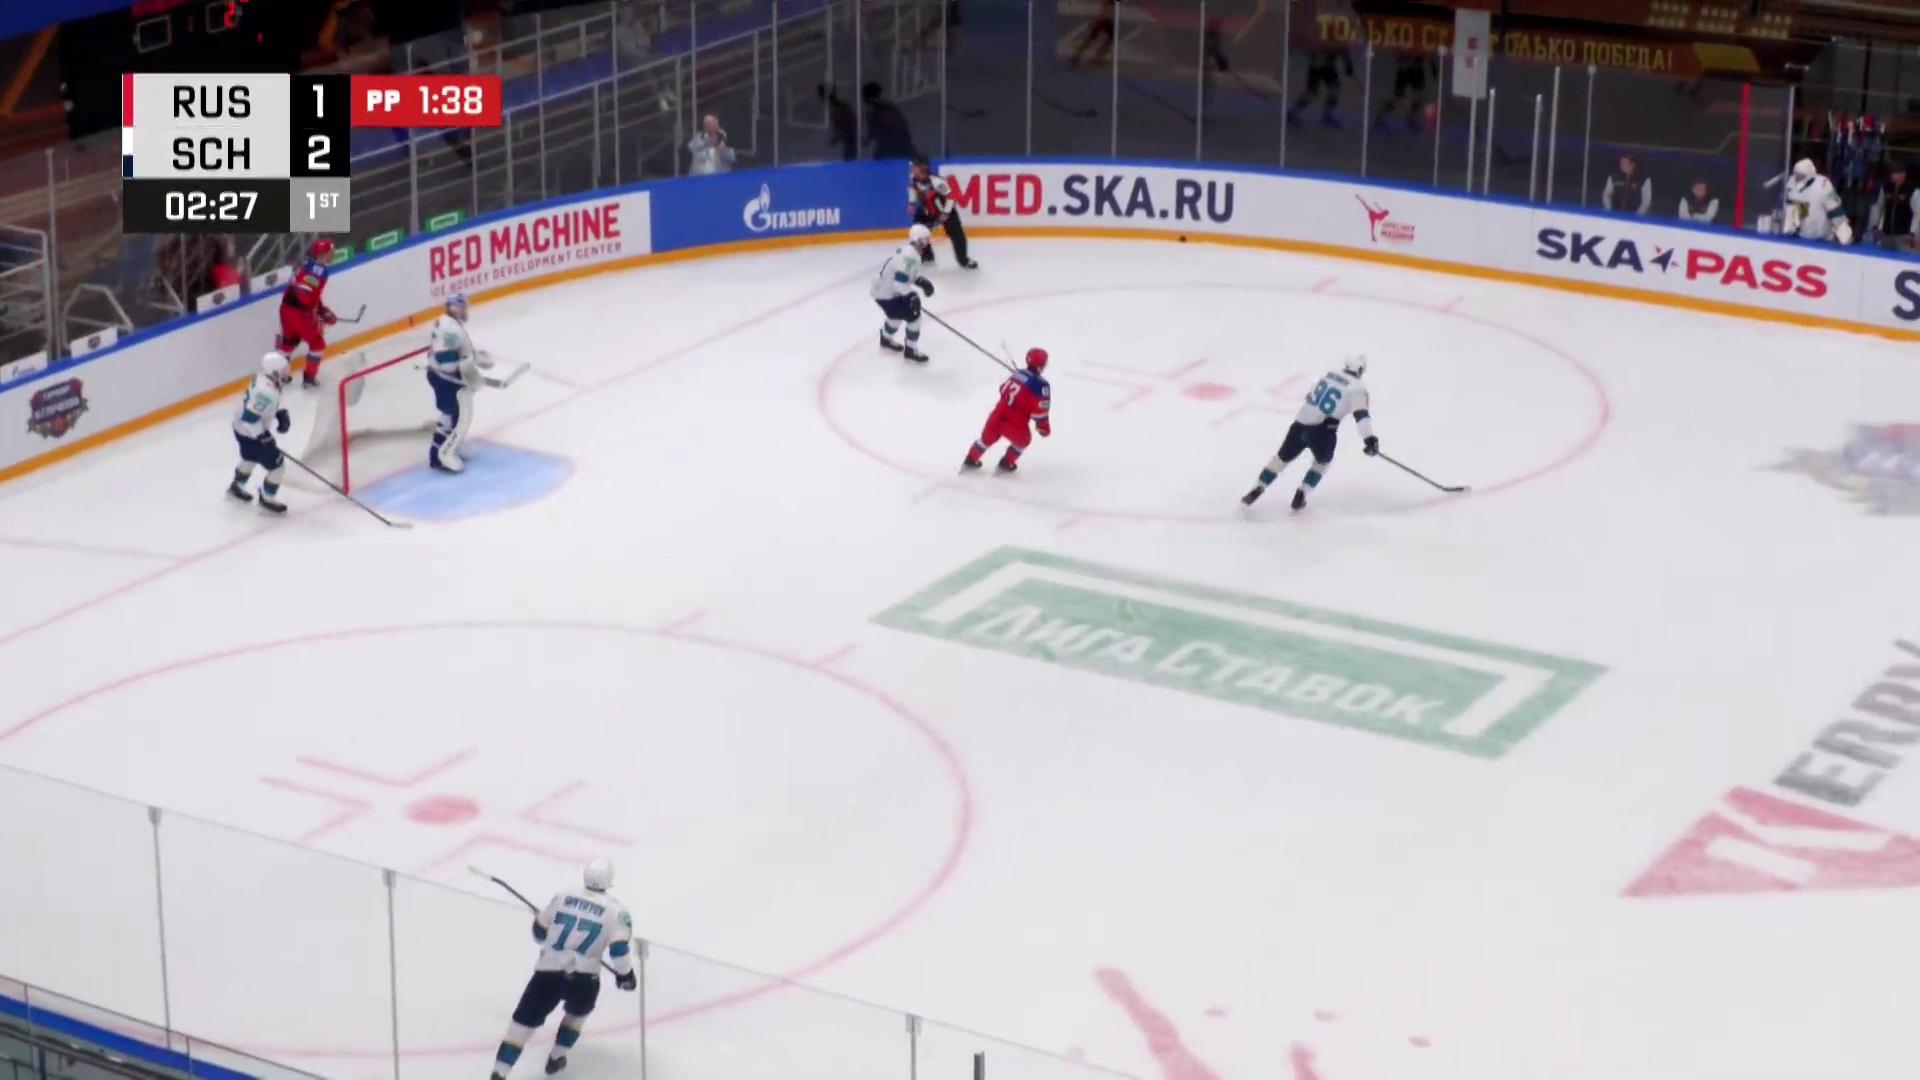ball: (1179, 236, 1188, 244)
